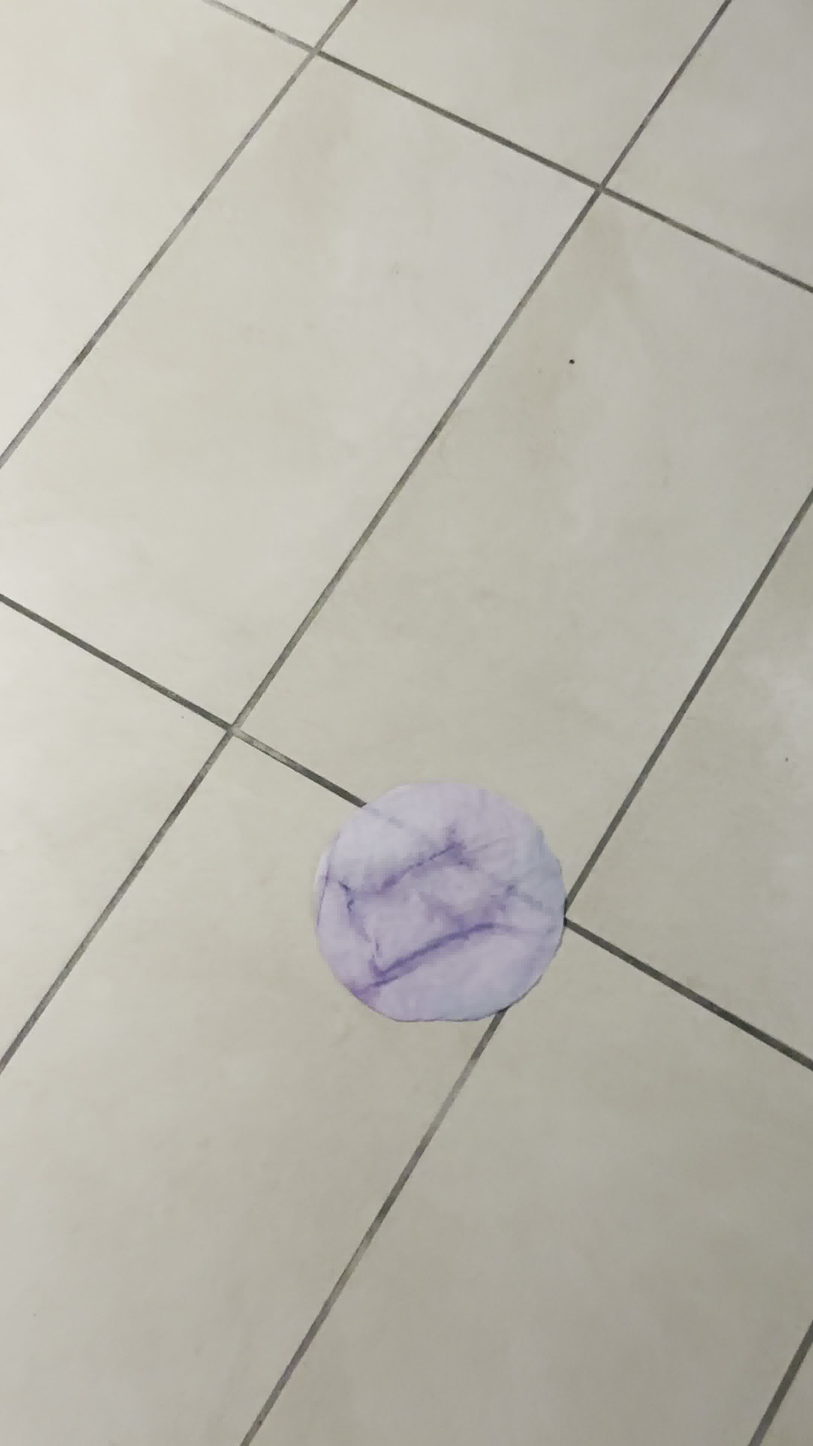Target: (312, 782, 556, 1024)
